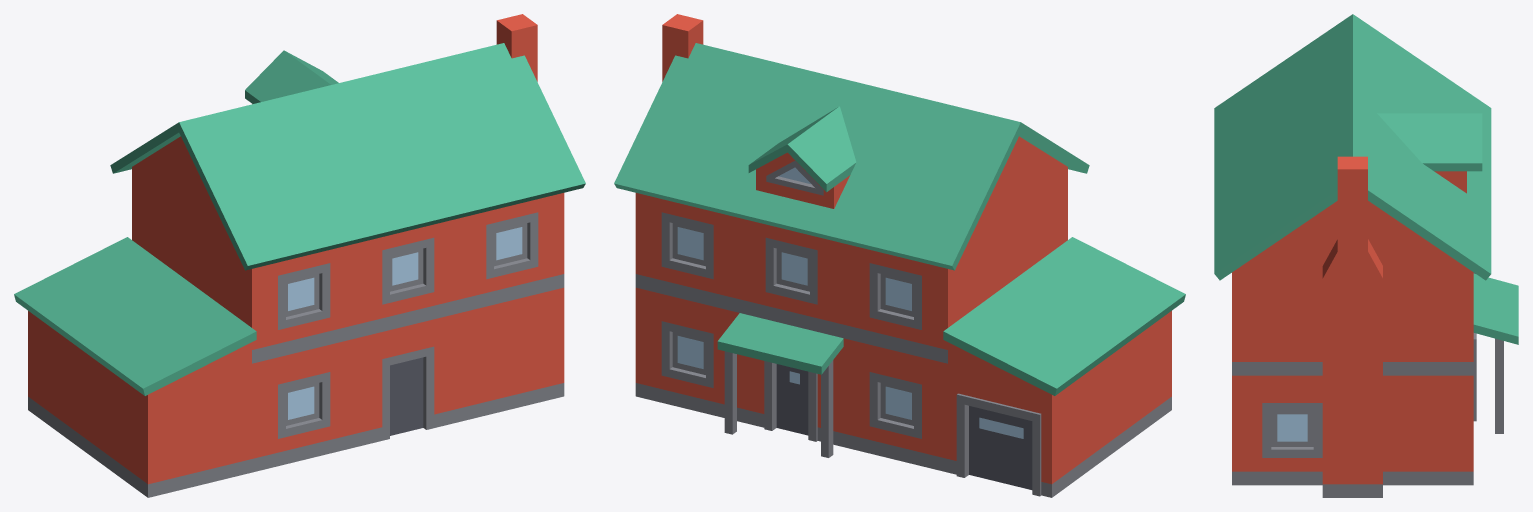
Rendered from jardin_casa.obj.
The picture shows the model from 3 angles, left to right: view 1: azimuth 30°, elevation 25°; view 2: azimuth 150°, elevation 25°; view 3: azimuth 270°, elevation 25°; orthographic projection.
Parts seen in each view (by area): view 1: jardin_casa; view 2: jardin_casa; view 3: jardin_casa.
Boxes of the visible parts, x1,y1,x2,y2 form: jardin_casa: [14, 14, 585, 497]; jardin_casa: [614, 14, 1185, 497]; jardin_casa: [1214, 14, 1518, 497].
Bounding box in the file's own units: 1.74 × 1.2 × 1.01.
